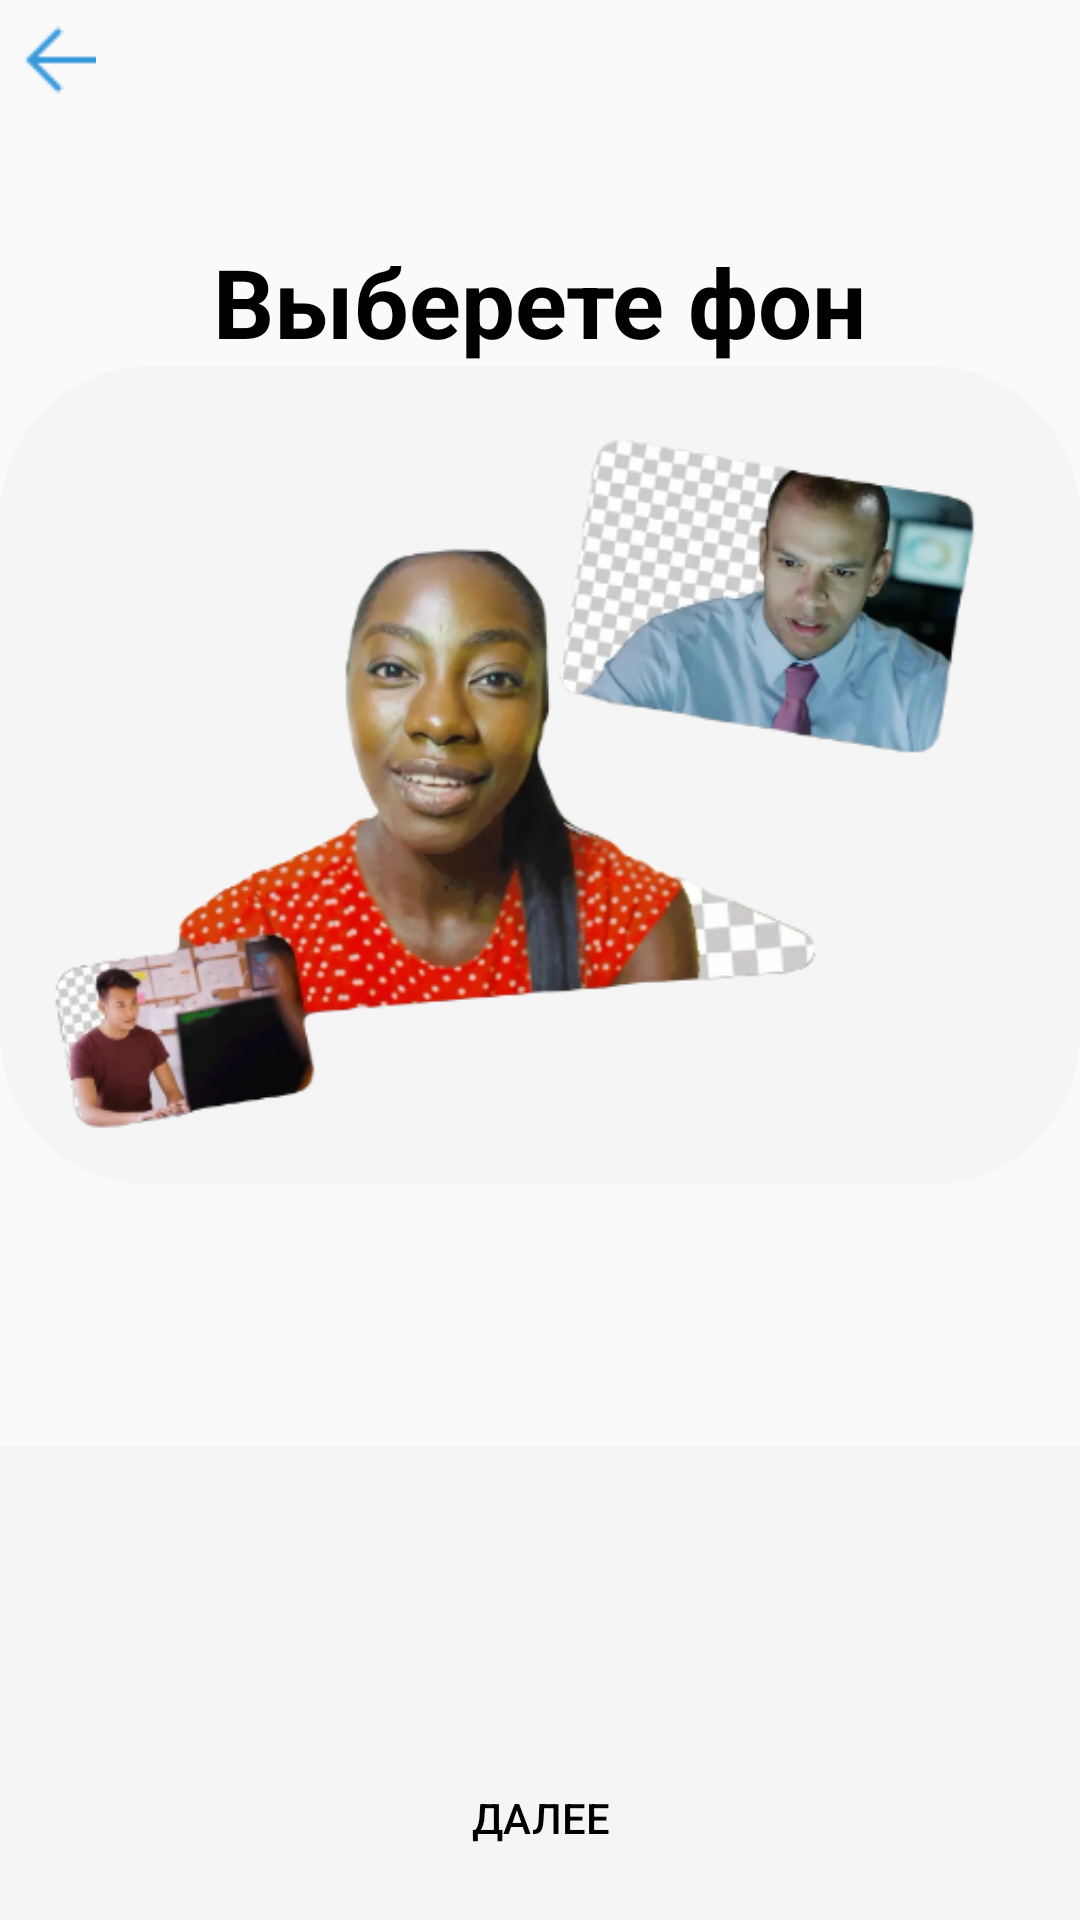

Locate icon controls on the screen. Image size 1080 x 1920, boxes as (x1, y1, x2, y2).
left back arrow: (26, 26, 96, 94)
